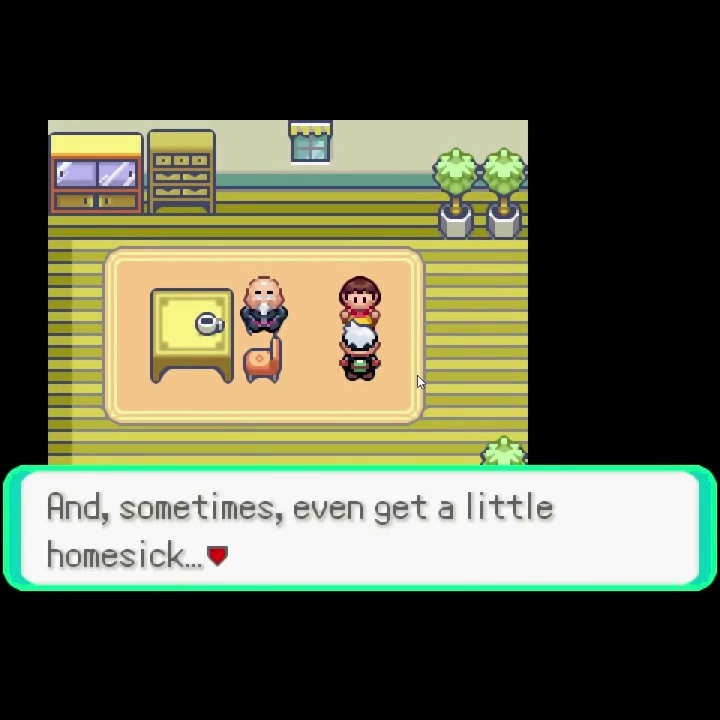npc: (239, 274, 290, 336), (336, 322, 386, 382), (337, 274, 383, 325)
